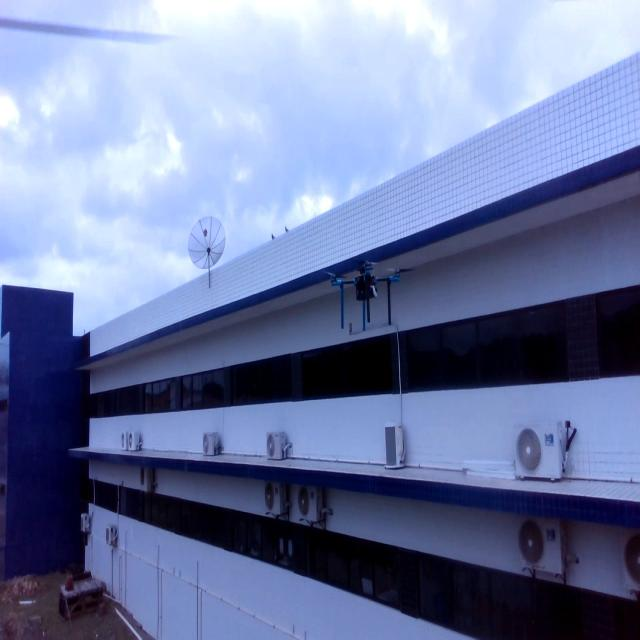-uav-: (316, 249, 410, 332)
